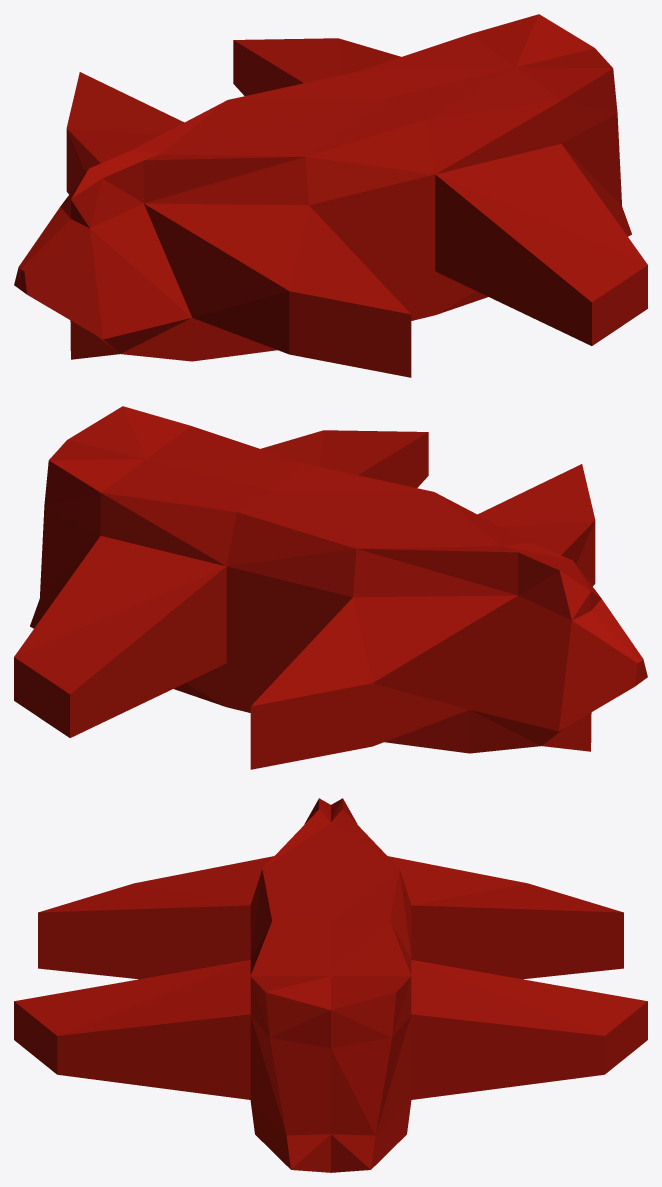
Rendered from alien.obj.
3 views of the same model, one above another, from view 1: azimuth 30°, elevation 25°; view 2: azimuth 150°, elevation 25°; view 3: azimuth 270°, elevation 25° (orthographic). The views are drawn at different scales.
Parts seen in each view (by area): view 1: Cube; view 2: Cube; view 3: Cube.
Boxes of the visible parts, x1,y1,x2,y2 form: Cube: [14, 14, 647, 377]; Cube: [14, 406, 647, 769]; Cube: [14, 798, 647, 1172].
Size of the model in its own units: 4.19 by 1.33 by 4.42.
